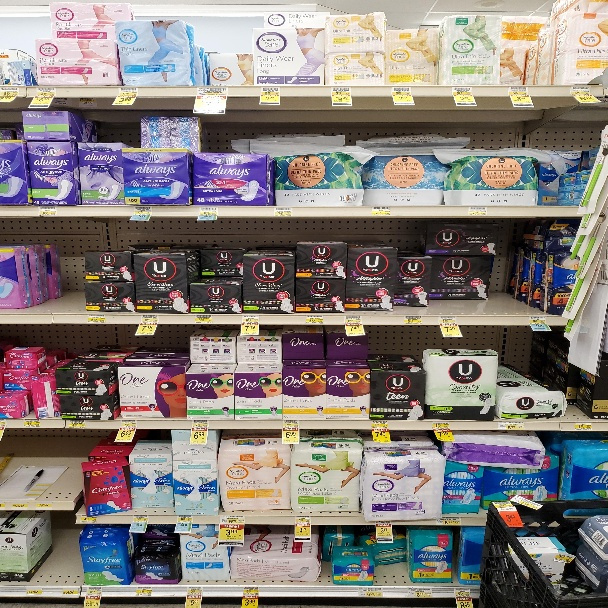All PRICE TAGS: (358, 588, 382, 598), (197, 87, 227, 95), (410, 589, 432, 598), (220, 516, 244, 524), (0, 86, 19, 96), (498, 422, 524, 429), (571, 86, 591, 95), (38, 206, 58, 215), (371, 207, 391, 216), (469, 207, 488, 216), (437, 518, 461, 525), (36, 87, 57, 95), (306, 315, 324, 324), (118, 87, 138, 95), (330, 87, 350, 95), (452, 87, 472, 95), (508, 87, 528, 95), (274, 207, 293, 215), (455, 588, 471, 597), (243, 587, 259, 596), (84, 588, 102, 596), (293, 516, 311, 524), (556, 554, 574, 562), (141, 315, 159, 323), (195, 315, 213, 323), (439, 316, 457, 324), (529, 316, 547, 324), (432, 421, 450, 429), (391, 88, 411, 95), (66, 421, 86, 428), (242, 315, 259, 323), (405, 315, 422, 323), (186, 587, 201, 596), (136, 587, 151, 596), (494, 501, 513, 508), (261, 87, 280, 94), (23, 419, 39, 427), (345, 315, 361, 323), (192, 420, 208, 428), (373, 521, 394, 527), (88, 315, 106, 322), (281, 420, 299, 427), (574, 422, 592, 429), (176, 515, 193, 522), (134, 207, 151, 214), (199, 207, 216, 214), (121, 420, 138, 427), (372, 421, 389, 428), (80, 515, 94, 523), (132, 515, 148, 522)
